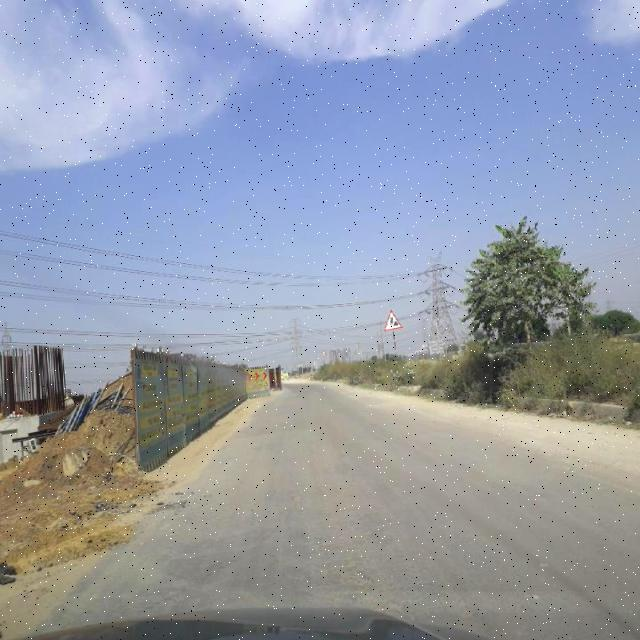D40: (337, 562, 379, 588)
